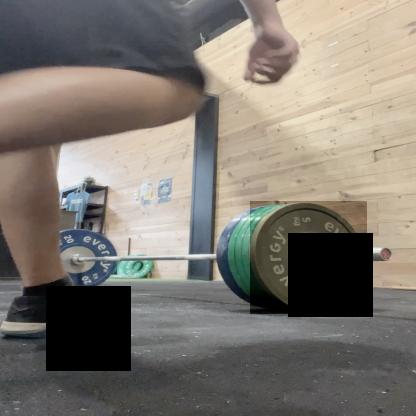barbell: (251, 202, 368, 315)
